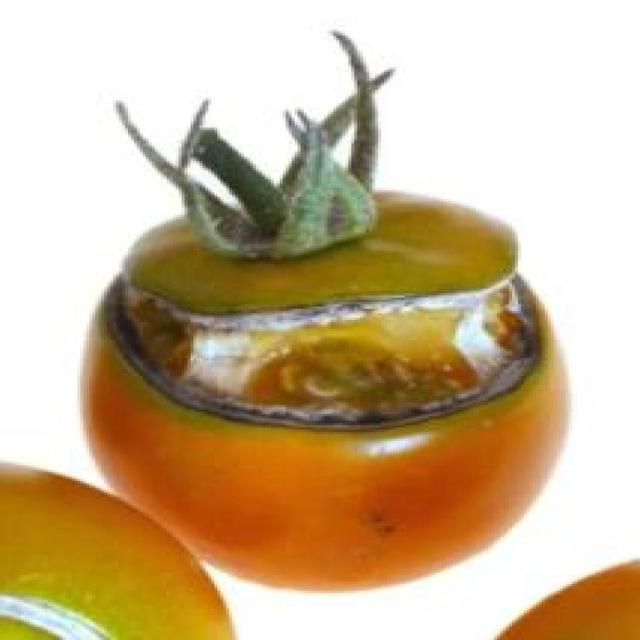Cracking Fruit: (33, 33, 424, 408)
